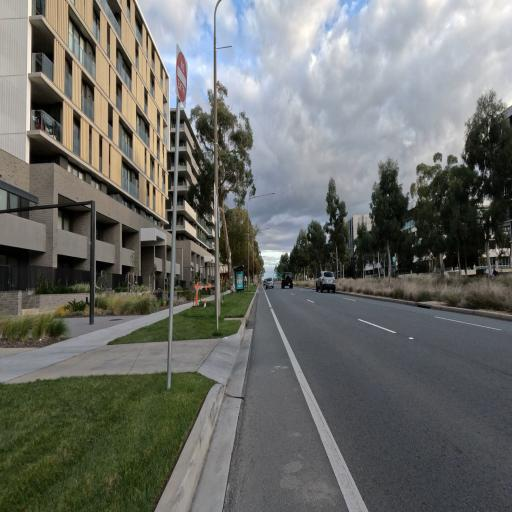kerb_cut: (194, 334, 250, 400)
